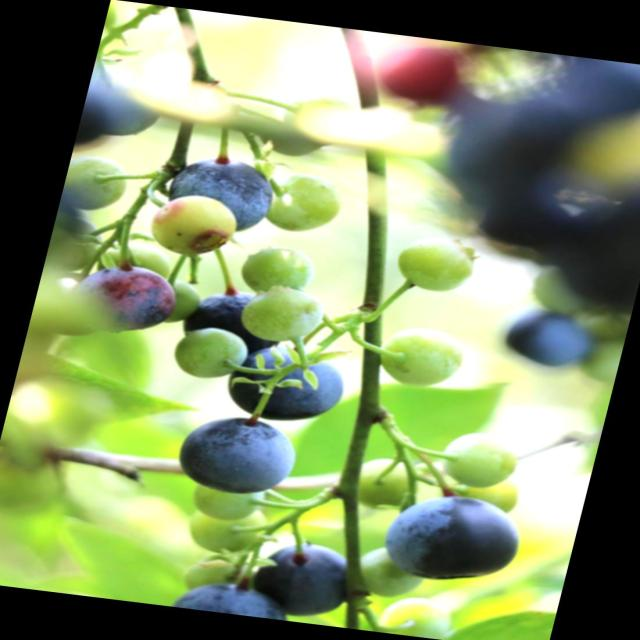blueberry: (373, 486, 527, 586), (212, 338, 358, 426), (171, 412, 306, 498), (157, 146, 281, 236), (244, 536, 355, 620), (70, 260, 187, 338), (181, 280, 282, 354), (499, 309, 599, 377), (177, 578, 280, 618)
blueberry-unripe: (142, 187, 250, 262), (376, 318, 466, 394), (436, 426, 530, 496), (255, 170, 349, 236), (170, 502, 276, 558), (390, 230, 476, 299), (234, 284, 330, 345), (59, 153, 136, 213), (240, 243, 320, 299), (170, 324, 250, 379), (343, 454, 427, 506), (374, 592, 460, 640), (185, 478, 272, 524), (359, 545, 427, 601), (280, 92, 354, 135)
